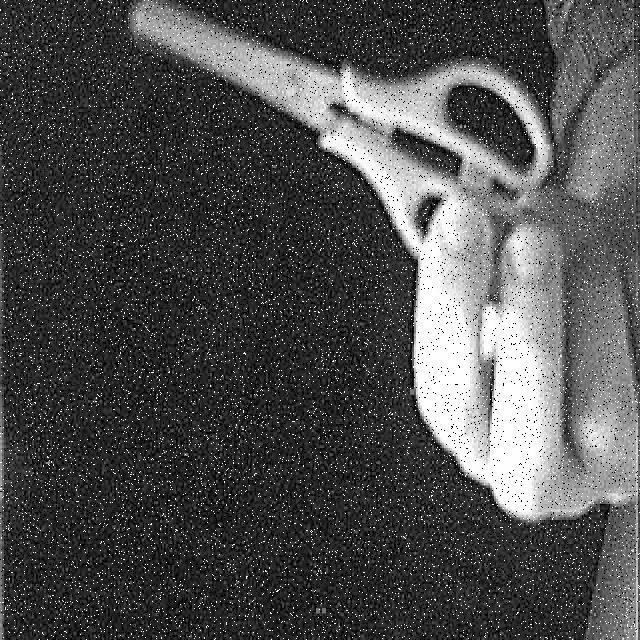scissors: (127, 0, 556, 285)
